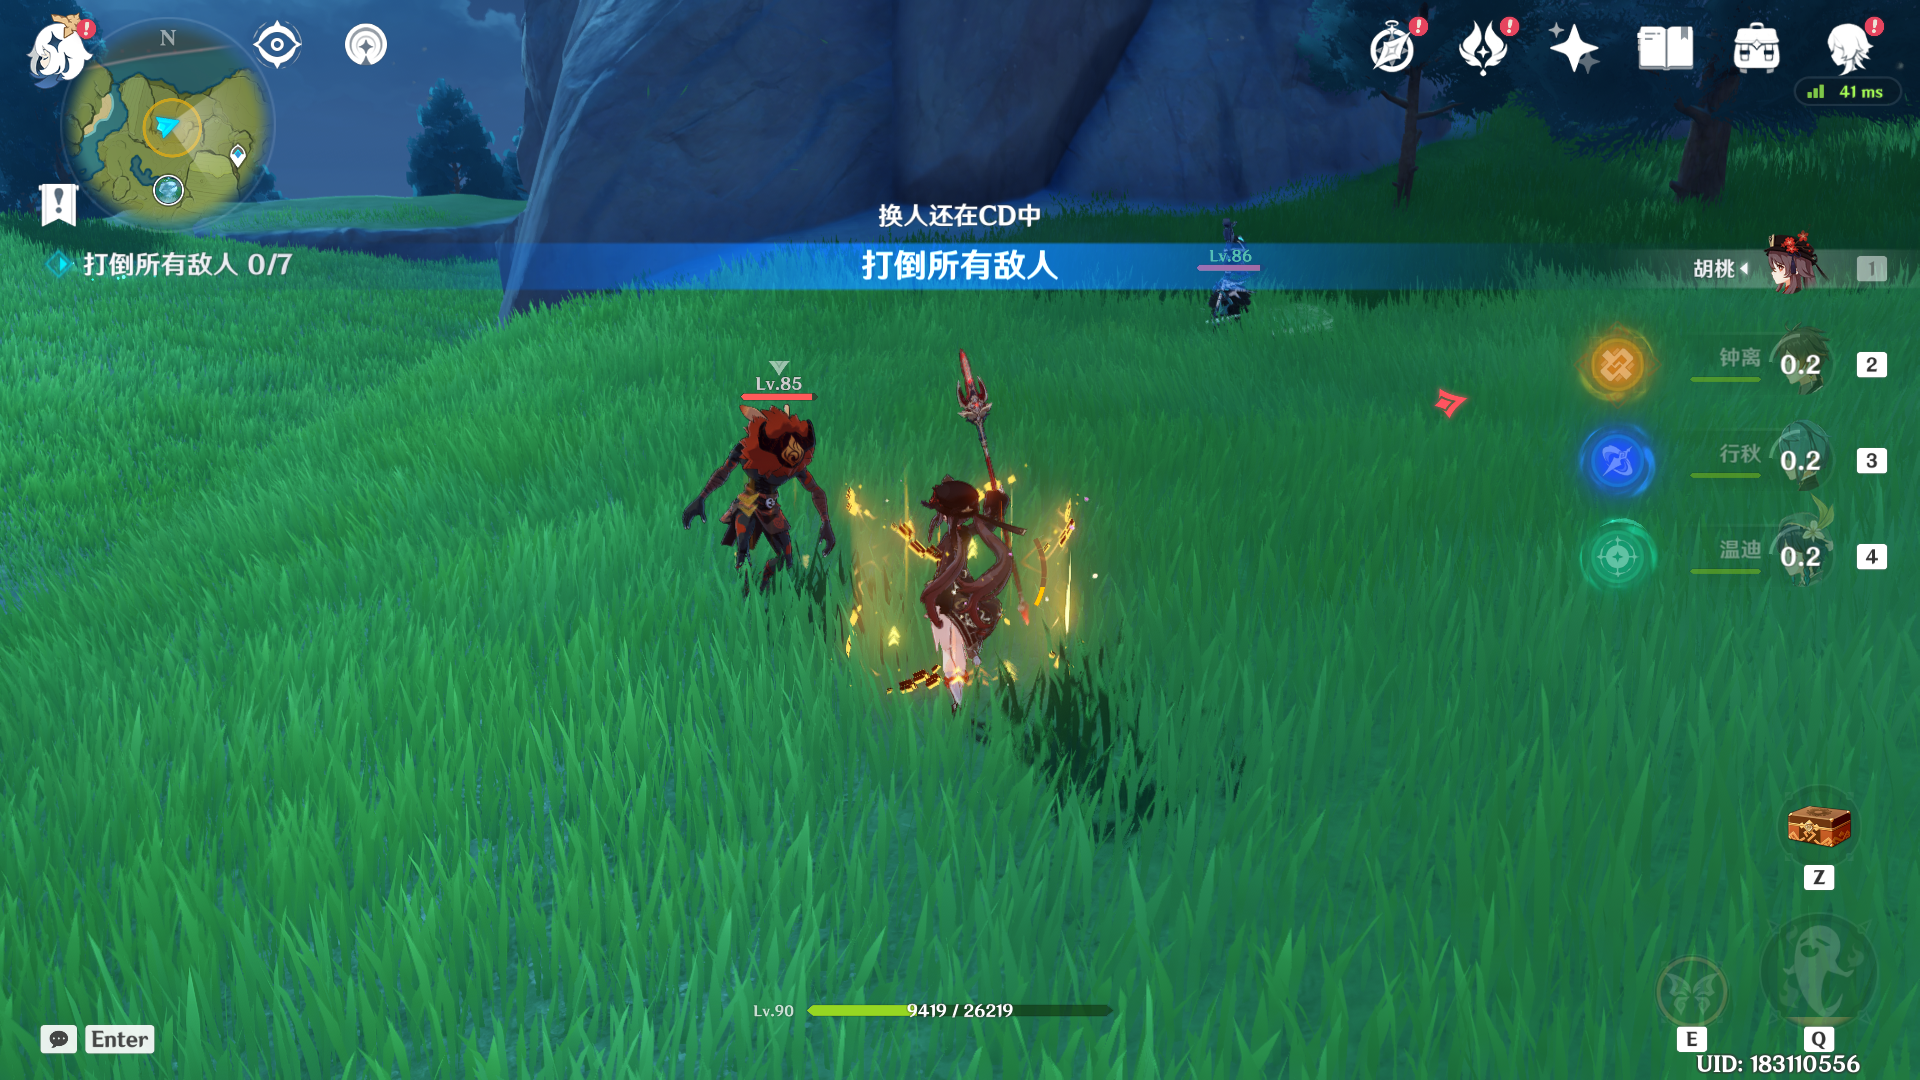character: (862, 429, 1113, 787)
hili: (673, 385, 865, 632), (1168, 237, 1269, 349)
